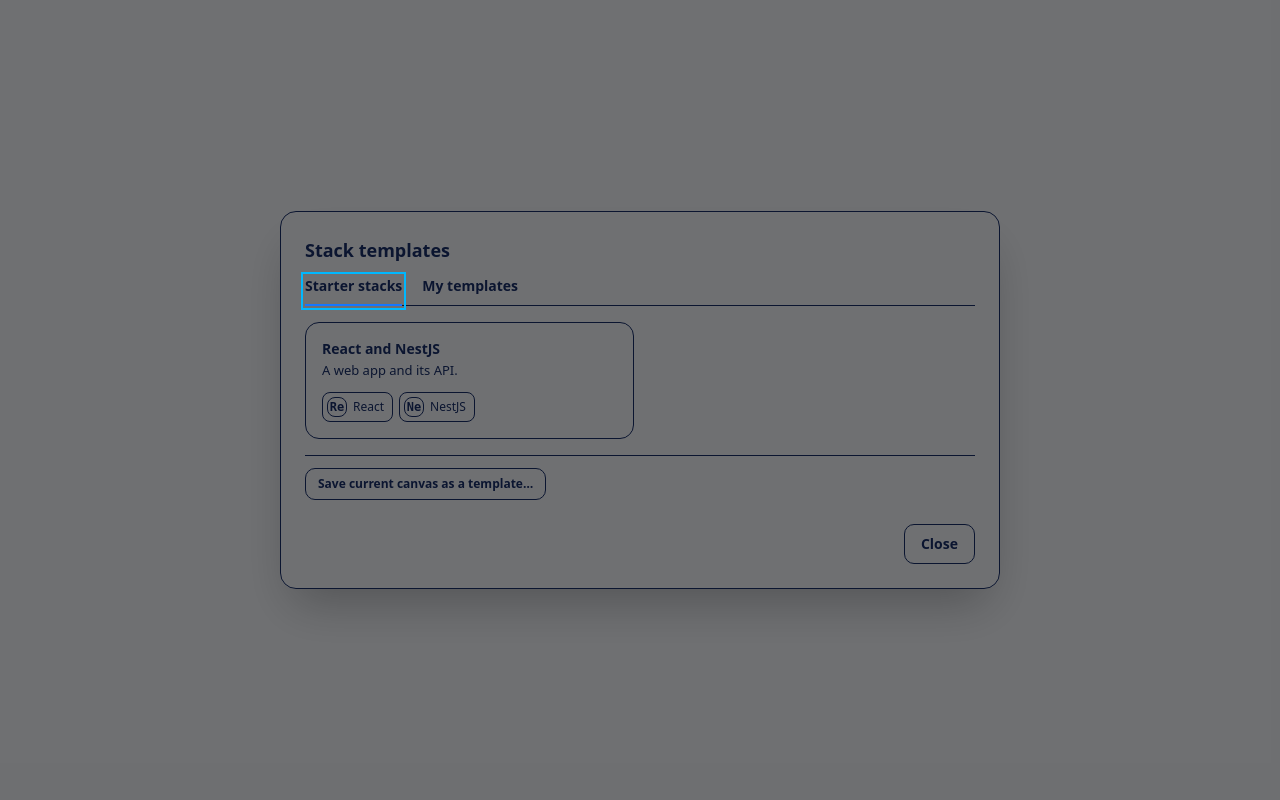
it: TemplatesDialog › applies the chosen template and reports what happened without installing
This screenshot has width=1280, height=800.
Click the button "React and NestJS A web app and its API. Re React Ne NestJS" at (381, 349), box [305,322,634,439]
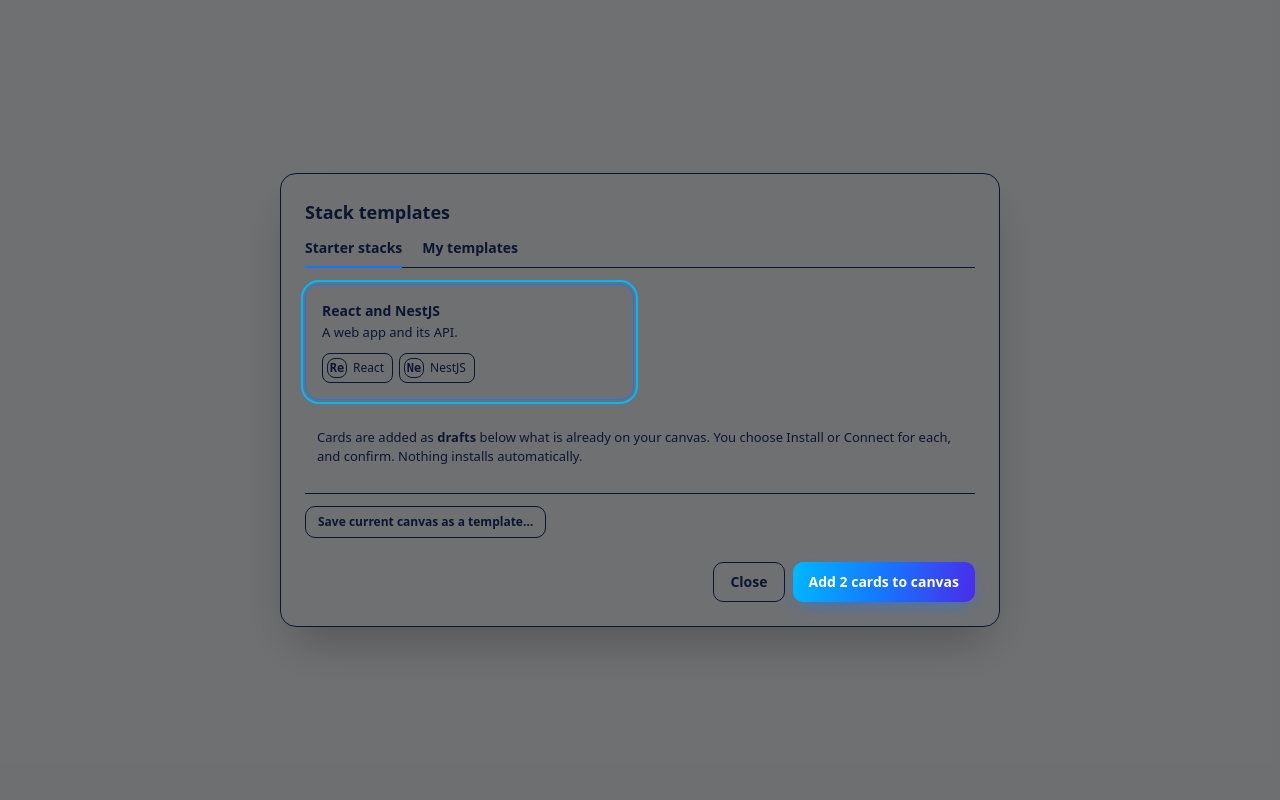
Click the button "Add 2 cards to canvas" at (884, 582), box [792,562,975,602]
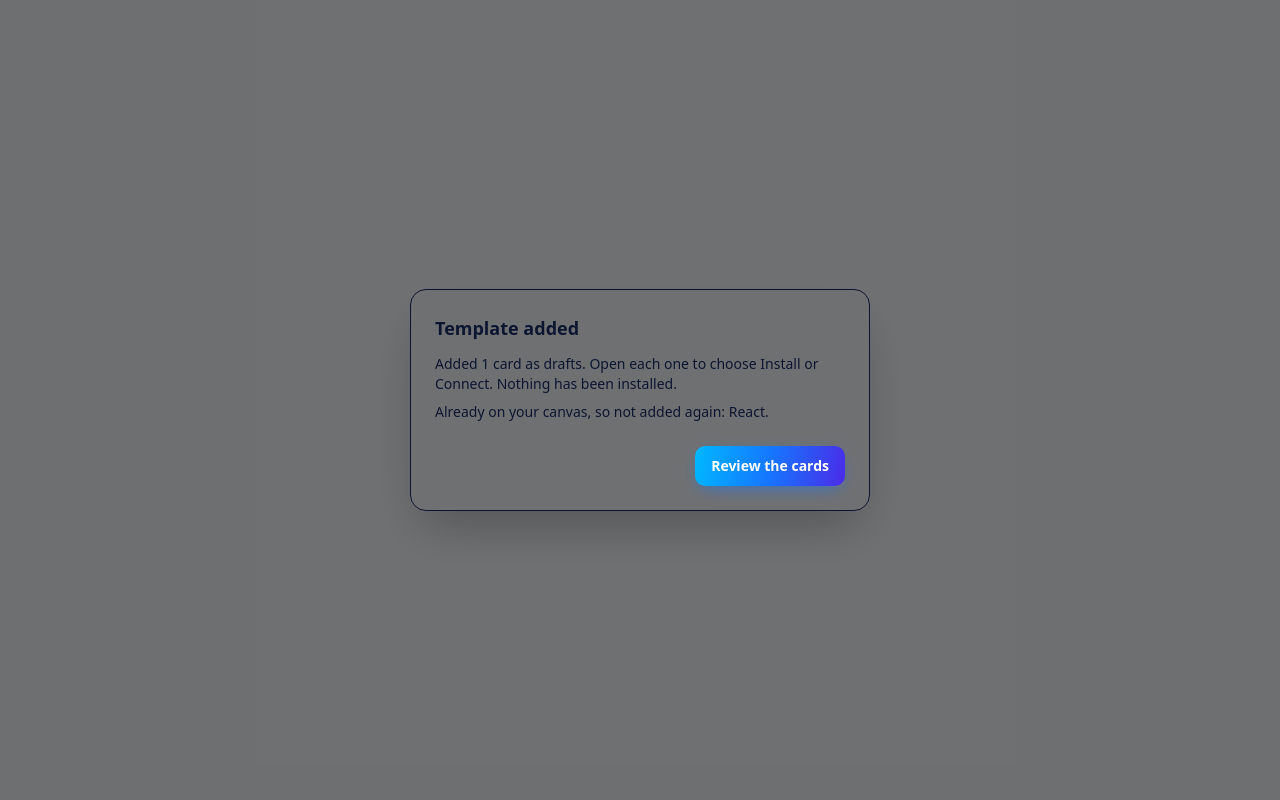
Expected: the message shows "Added 1 card as drafts", [435,354,845,394]
Expected: the text "Nothing has been installed" is shown, [435,354,818,393]
Expected: the text "Already on your canvas, so not added again: React." is shown, [435,402,769,421]
